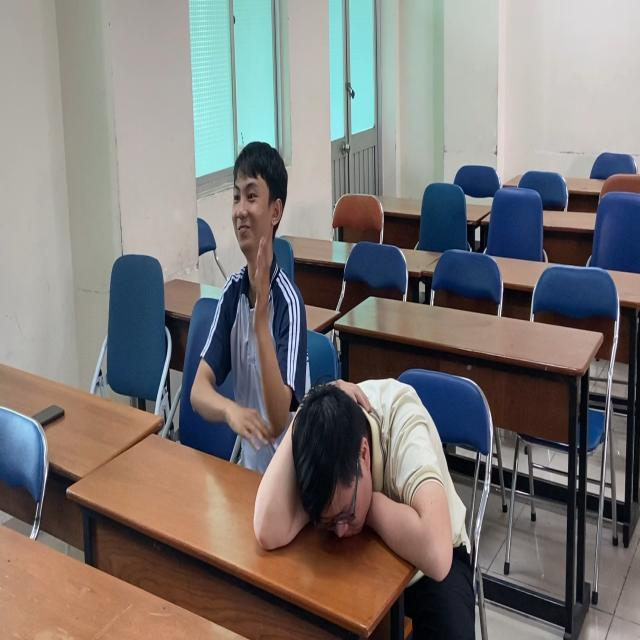raise_hand: (180, 129, 314, 503)
sleep: (251, 365, 481, 590)
